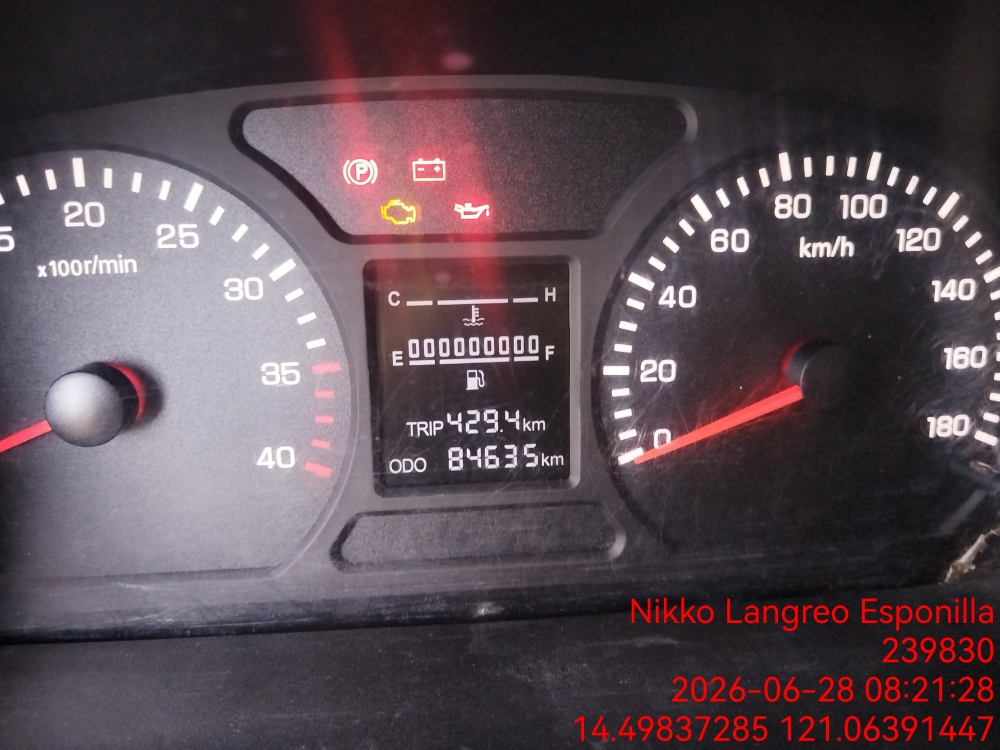grid_pose: (175, 71, 540, 363)
